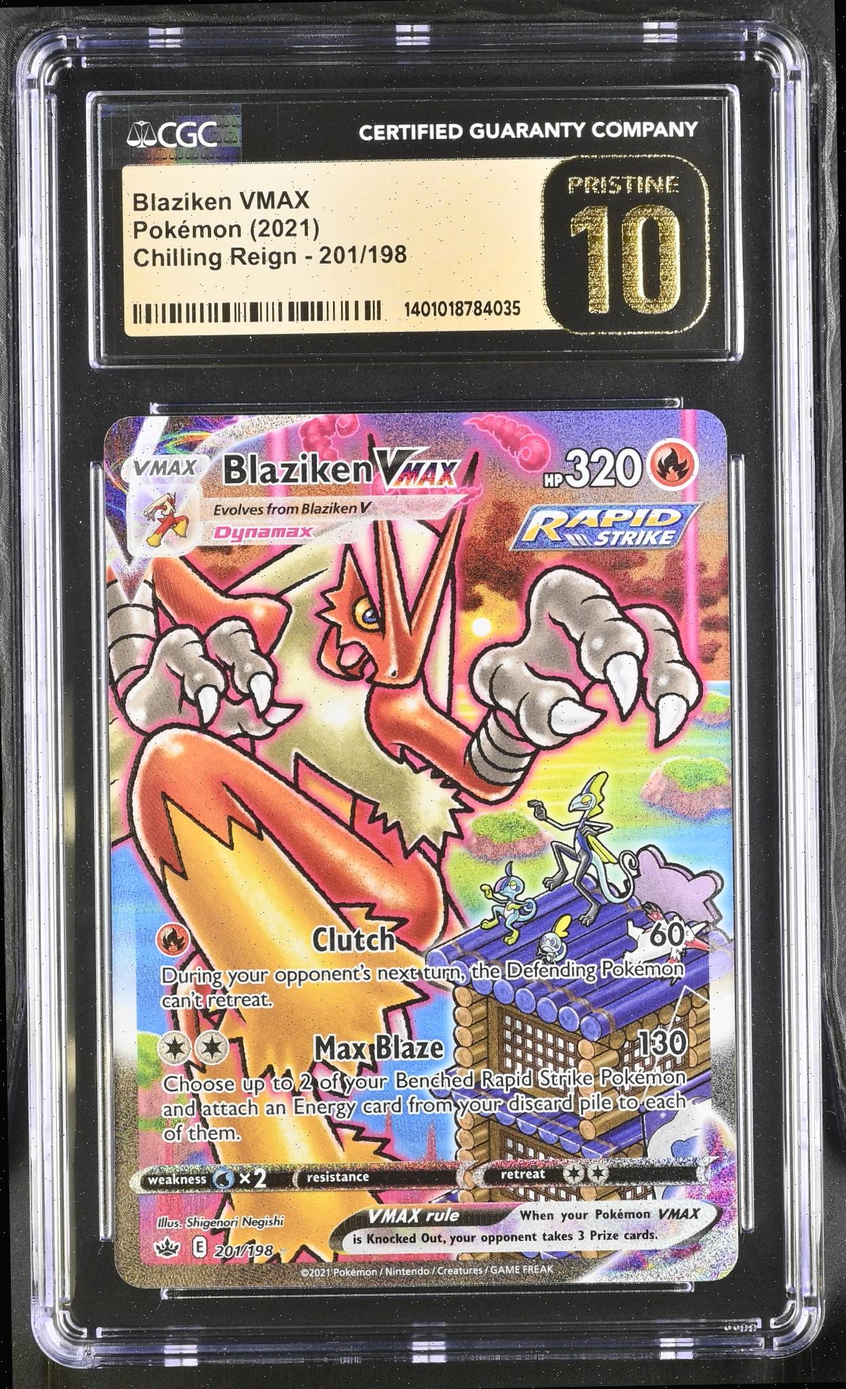card-2UtV: (103, 409, 738, 1289)
